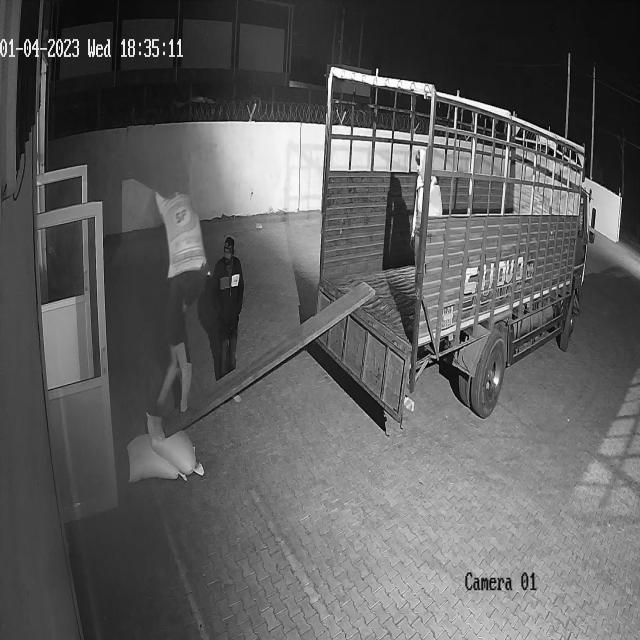sack: (155, 191, 206, 277), (145, 412, 203, 475), (126, 433, 188, 483)
